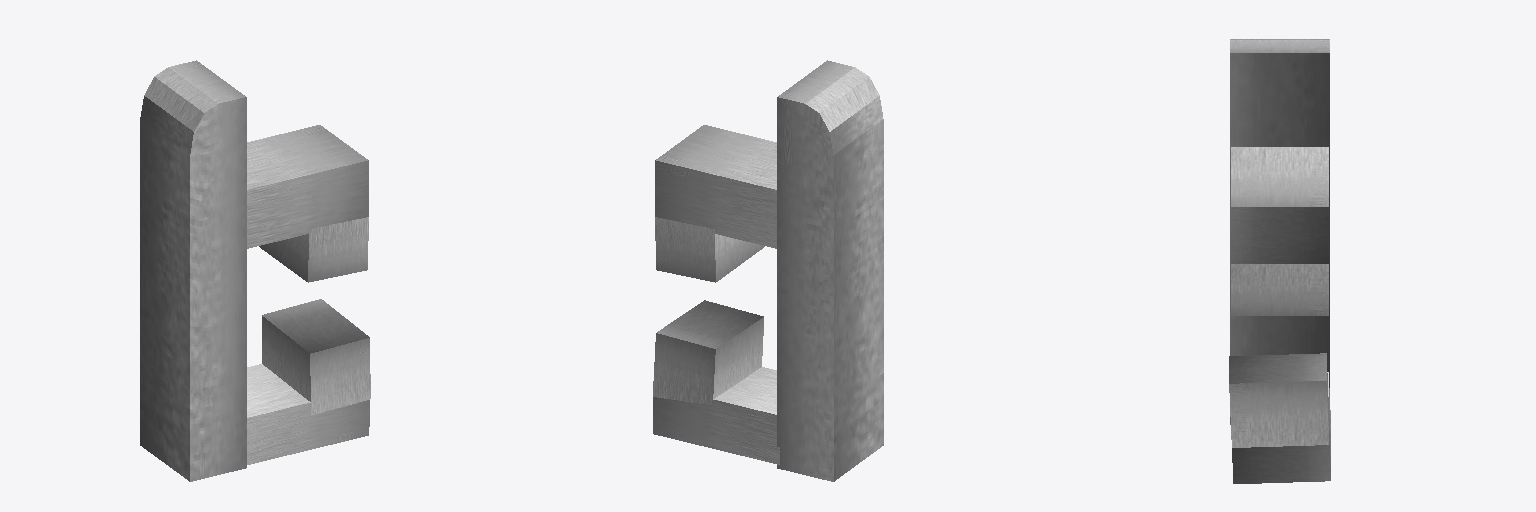
3 views of the same model, side by side, from view 1: azimuth 30°, elevation 25°; view 2: azimuth 150°, elevation 25°; view 3: azimuth 270°, elevation 25° (orthographic).
Size of the model in its own units: 1.24 by 2.42 by 0.6012.
Materials: 1 (1 with a texture image).